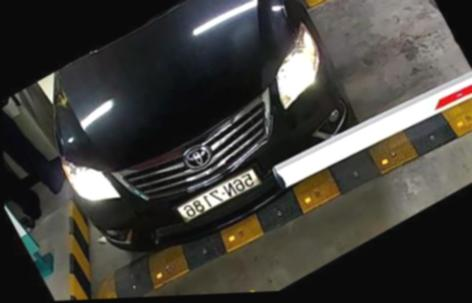License_Plate: (156, 170, 264, 231)
